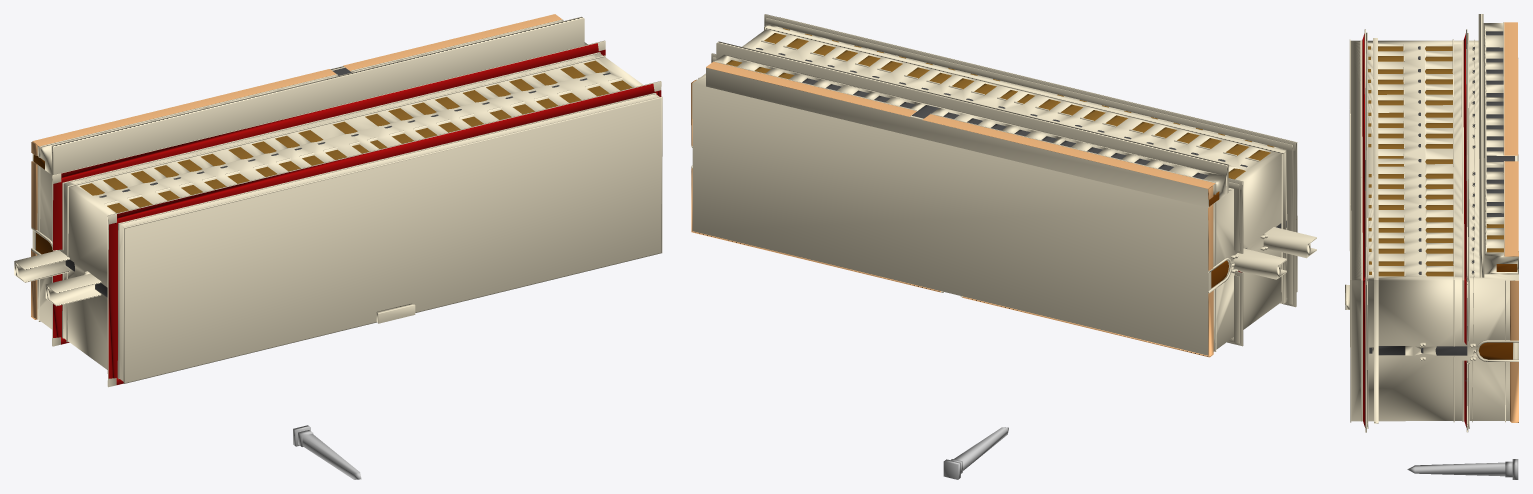
The model's file is 3d_ward.fbx.
The picture shows the model from 3 angles, left to right: view 1: azimuth 30°, elevation 25°; view 2: azimuth 150°, elevation 25°; view 3: azimuth 270°, elevation 25°; orthographic projection. The views are drawn at different scales.
Visible parts, largest first — view 1: Solid; view 2: Solid; view 3: Solid.
Boxes of the visible parts, left/top/right/bottom form: Solid: left=14, top=14, right=662, bottom=479; Solid: left=691, top=14, right=1316, bottom=479; Solid: left=1345, top=14, right=1518, bottom=479.
Bounding box in the file's own units: 63.3 × 38.58 × 17.69.
